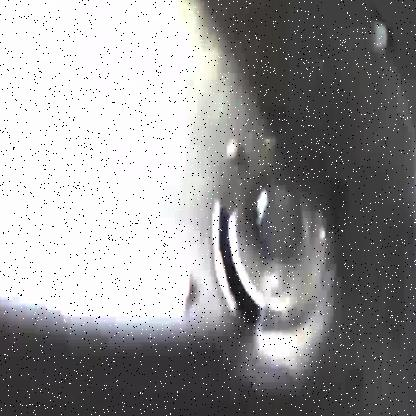Crack2: (210, 198, 262, 336)
